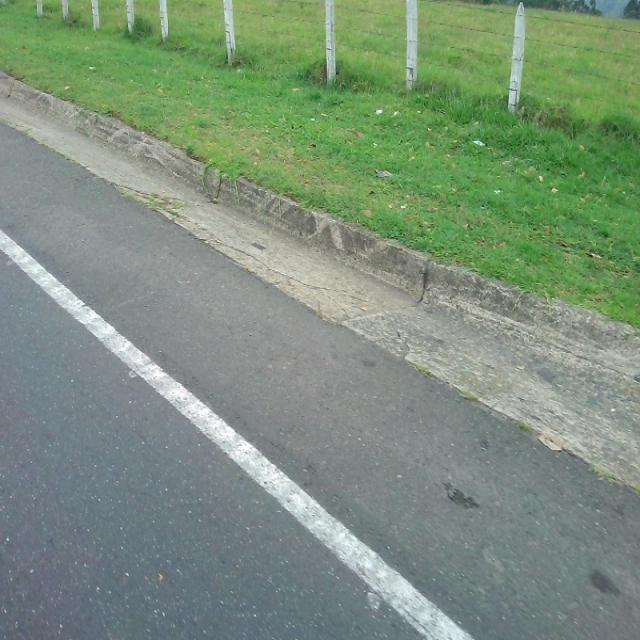DITCH: (1, 38, 638, 637), (1, 75, 639, 638)
